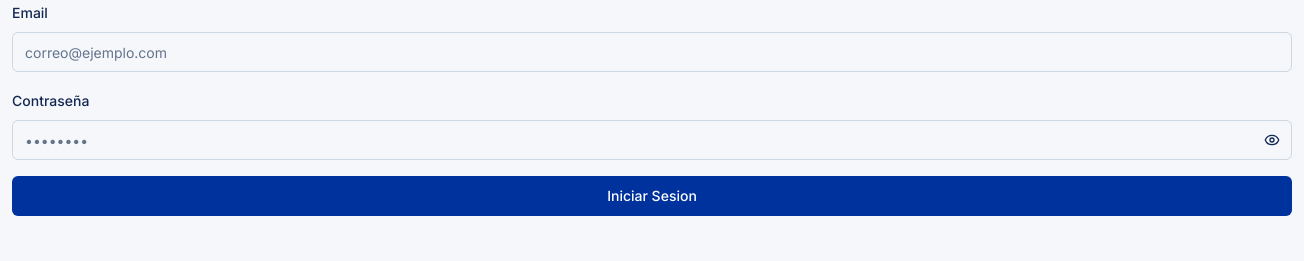
Test: LoginForm › validation › should show error for empty password
In the field with placeholder "correo@ejemplo.com": (652, 52) [12,32,1292,72], type "test@test.com"
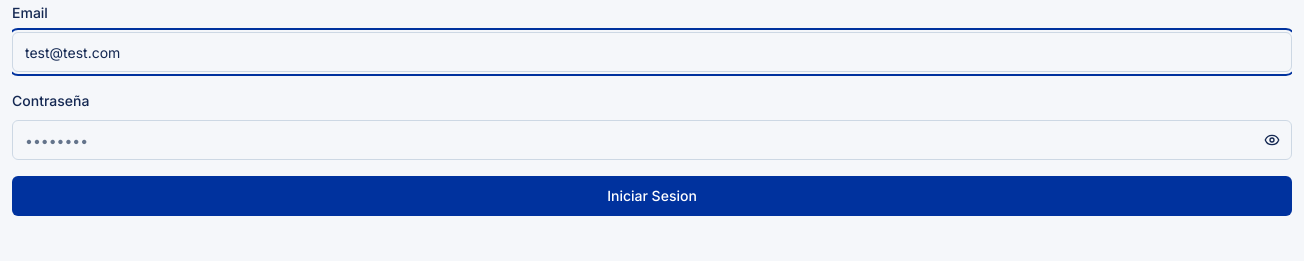
Click the button "Iniciar Sesion": (652, 196) [12,176,1292,216]
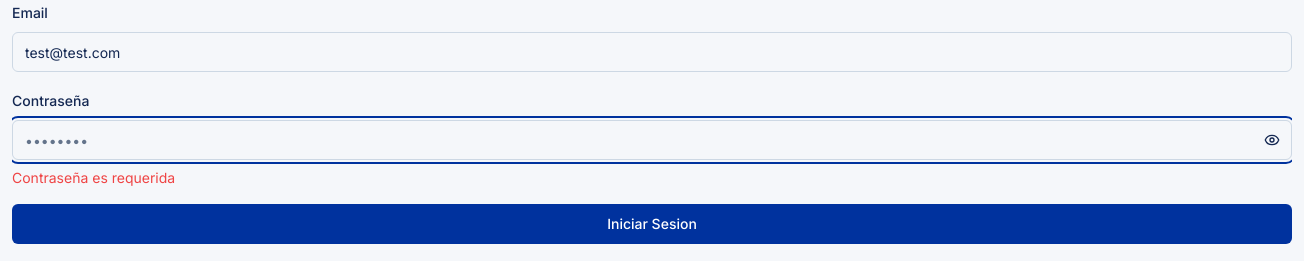
expect the text "Contraseña es requerida" is shown: met, box [12,169,175,186]
